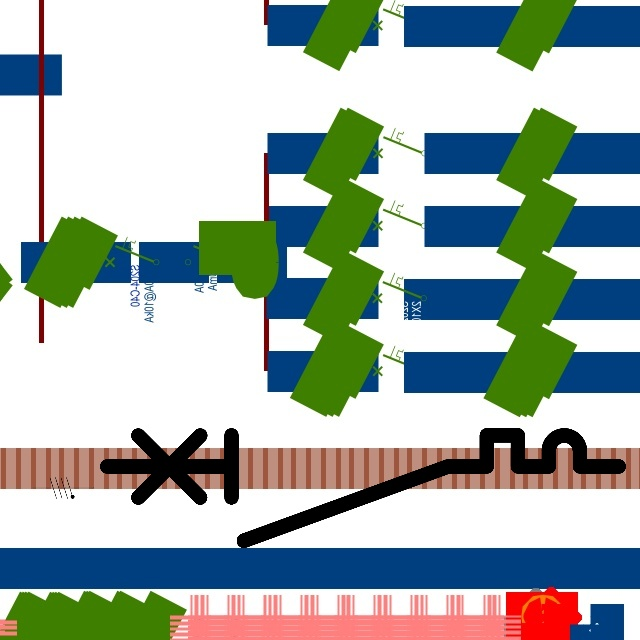interruptor_termomagnetico: (93, 422, 631, 553)
